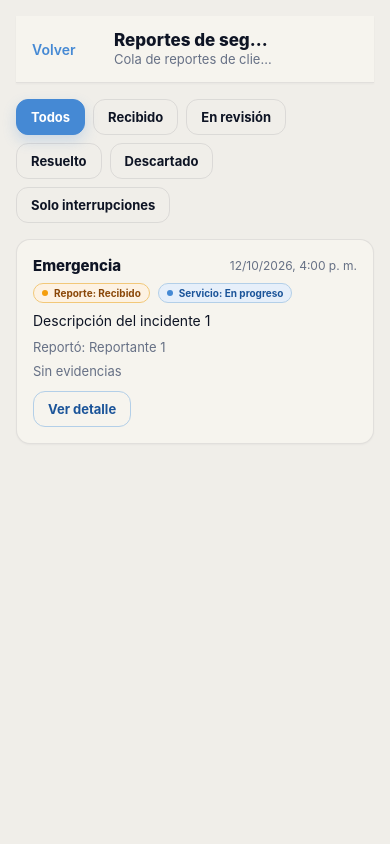
Test: AdminSecurityReportsScreen — detalle › un error al cargar el detalle se muestra y permite reintentar
expect the text "Descripción del incidente 1" is shown: met, box [33,312,210,329]
Click the text "Ver detalle".
click(82, 409)  # box [48,401,116,417]
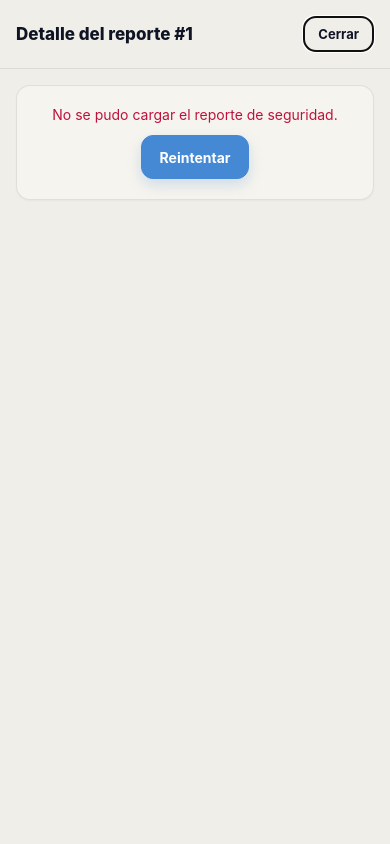
expect the text "No se pudo cargar el reporte de seguridad." is shown: met, box [52,106,338,123]
Click the text "Reintentar".
click(195, 157)  # box [160,148,230,166]
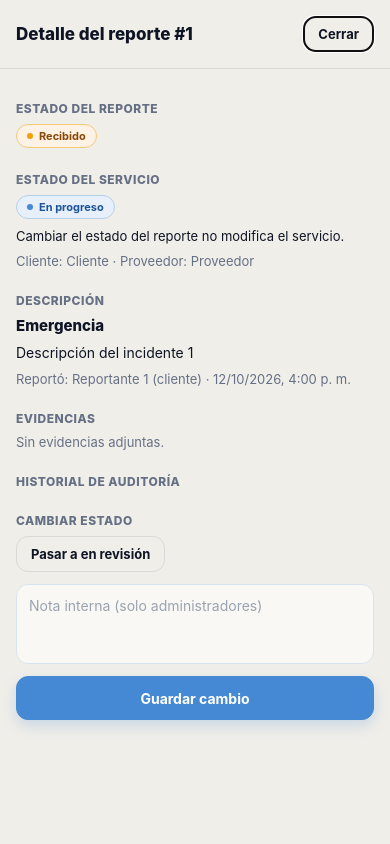
expect the text "Estado del reporte" is shown: met, box [16,101,158,116]
